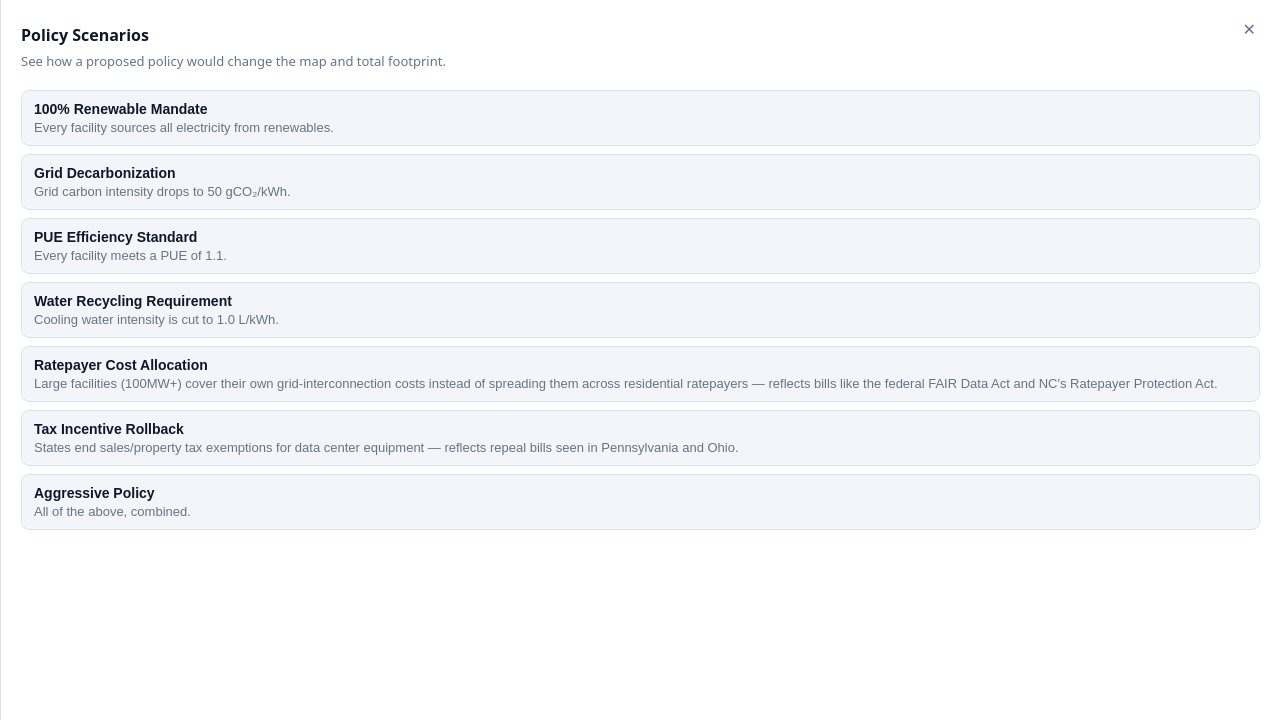
Test: ScenarioPanel › applies the cost allocation reform preset with the correct payload
The width and height of the screenshot is (1280, 720).
Click the text "Ratepayer Cost Allocation".
click(121, 364)  # box [34,356,208,372]
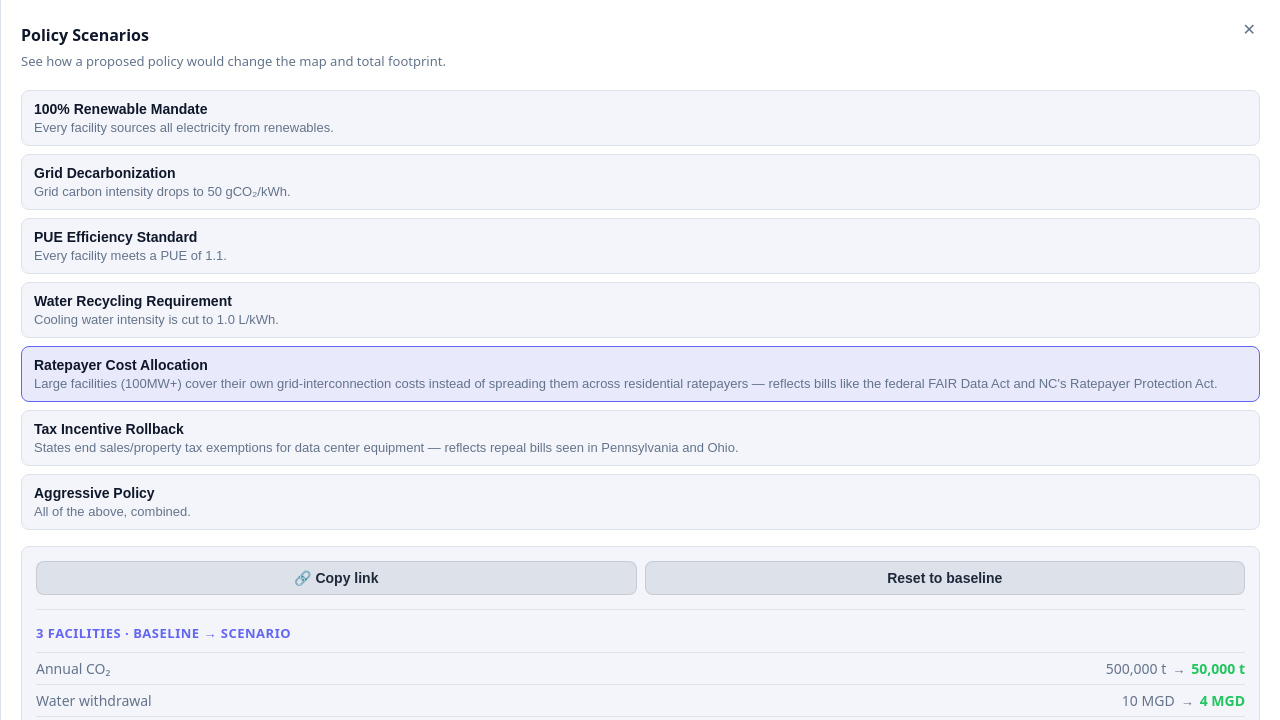
Now the text "3 facilities · baseline → scenario" is shown, box [36,624,291,642]
